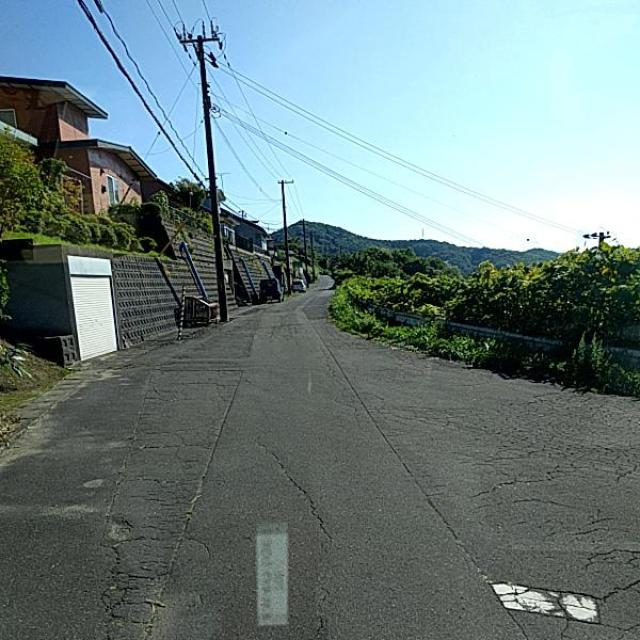Crack: (369, 346, 640, 560), (108, 357, 368, 532), (29, 495, 219, 640)
